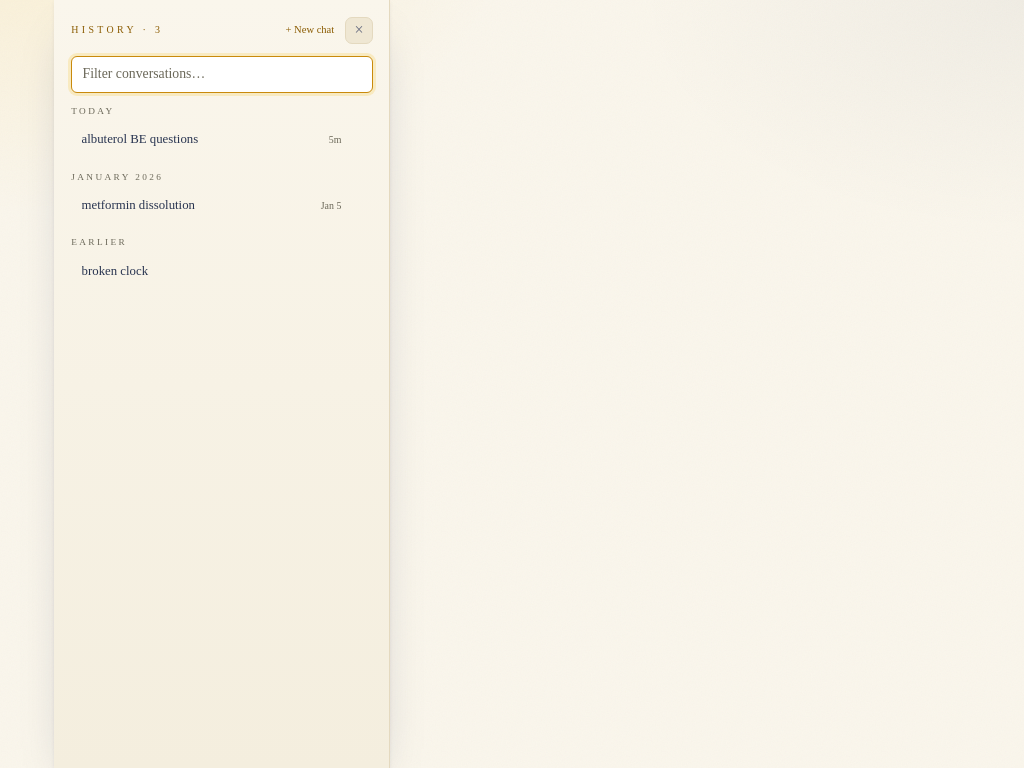
Scenario: day buckets and filtering › filters by title and states an empty match honestly
Type "metformin" into the field labelled "Filter conversations" at point(222, 74), box [71,56,373,93]
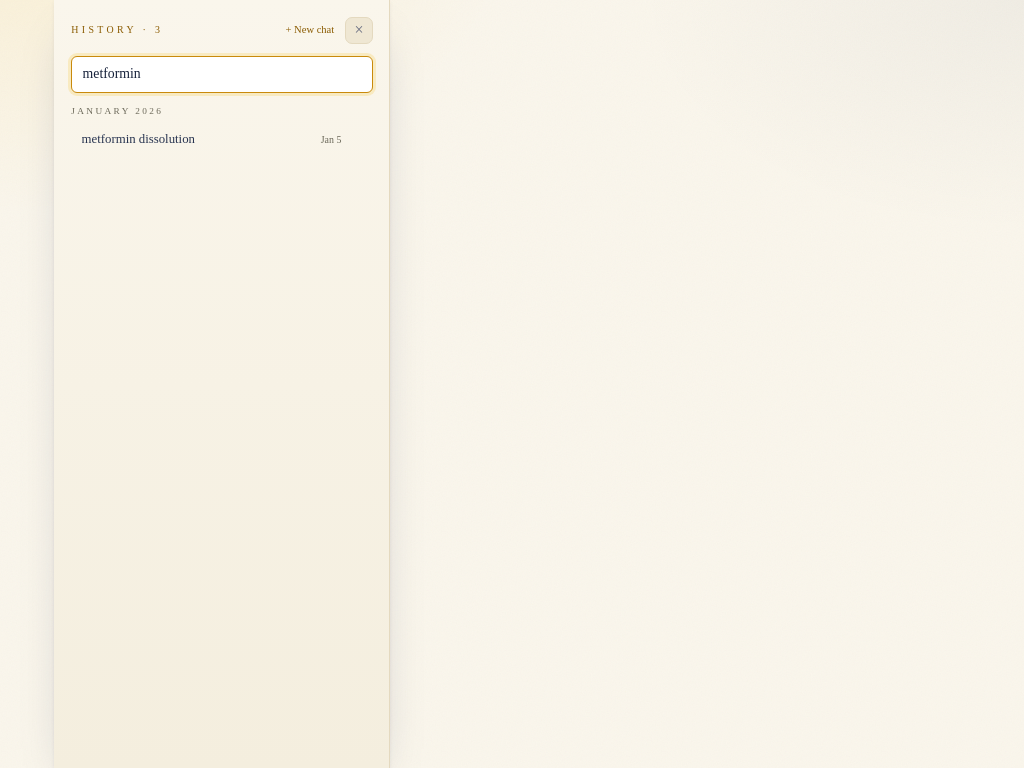
Expected: the text "metformin dissolution" is shown, [82,132,195,146]
Expected: the number of elements with class "hist" is 1, [82,132,373,146]
Replace the text in the field named "Filter conversations" with "zzz" at point(222, 74), box [71,56,373,93]
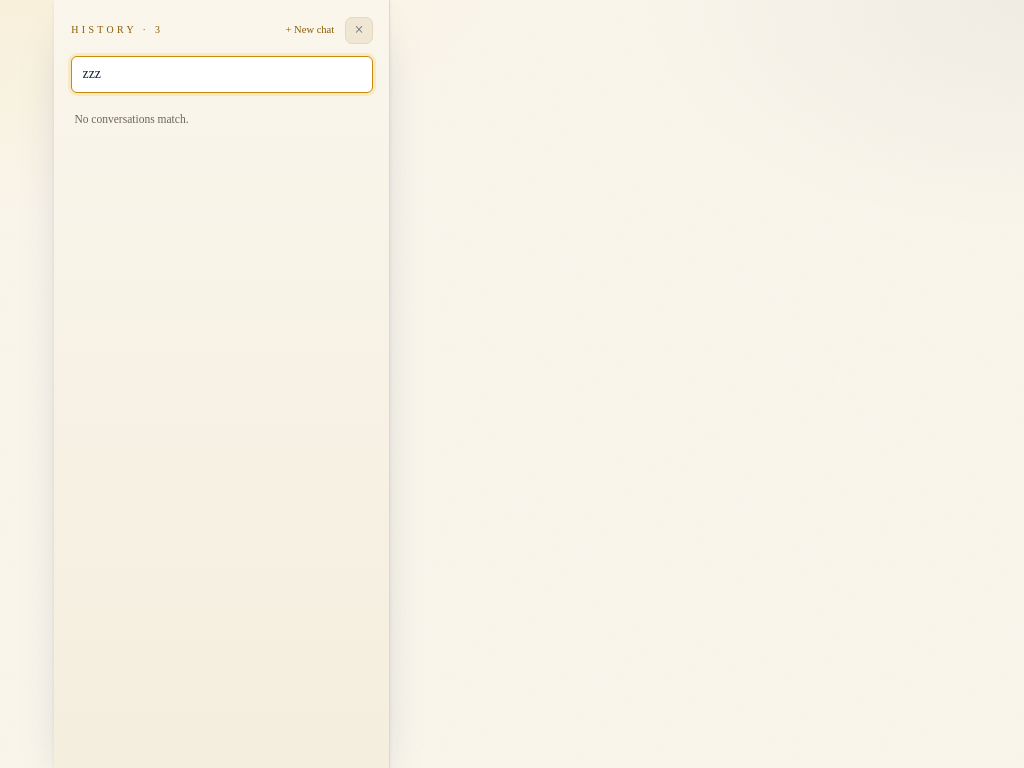
Expected: no elements with class "hist" are shown
Expected: the text "No conversations match." is shown, [74,113,189,125]
